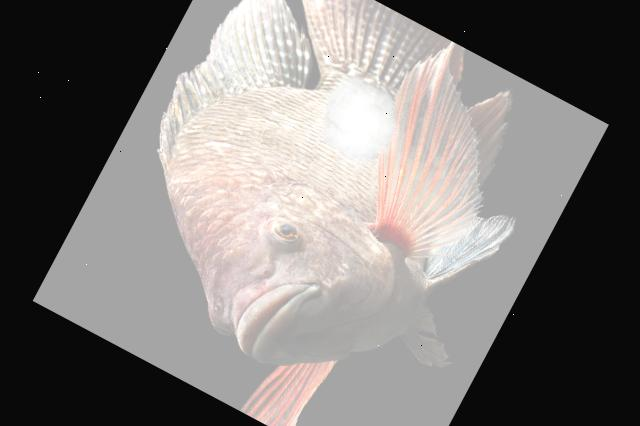Fungal Disease -Saprolegniasis-: (159, 0, 513, 426)
